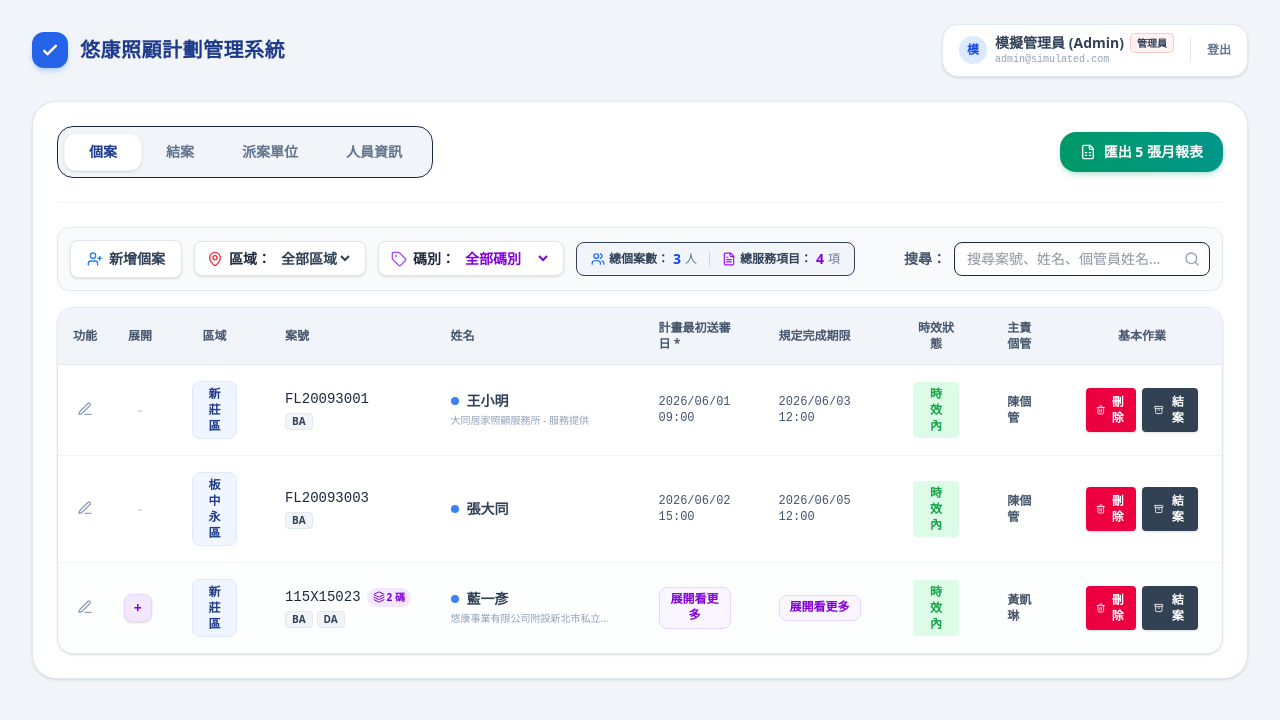
Scenario: App View Management & Searching › should filter cases based on keyword search
The width and height of the screenshot is (1280, 720).
Expected: the text "王小明" is shown, [451,391,509,410]
輸入搜尋關鍵字「張大同」
Type "張大同" into the field with placeholder "搜尋案號、姓名、個管員姓名...".
click(1082, 259); type("張大同")  # box [954,242,1210,276]
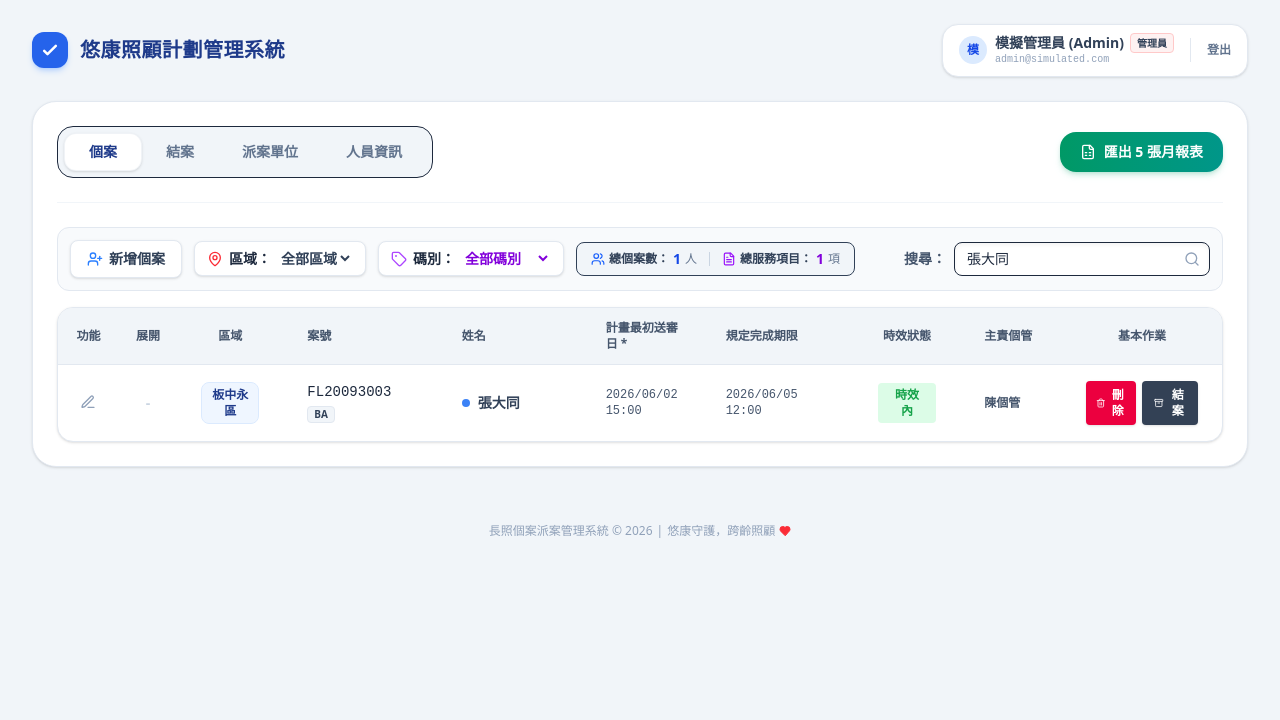
Expected: the text "張大同" is shown, [462,393,520,412]
Expected: the text "王小明" is gone
